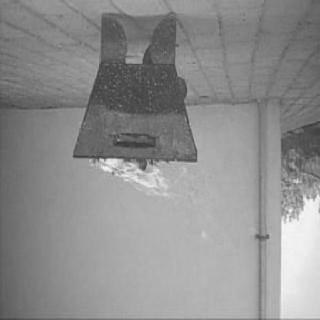Fire: (76, 138, 209, 242)
